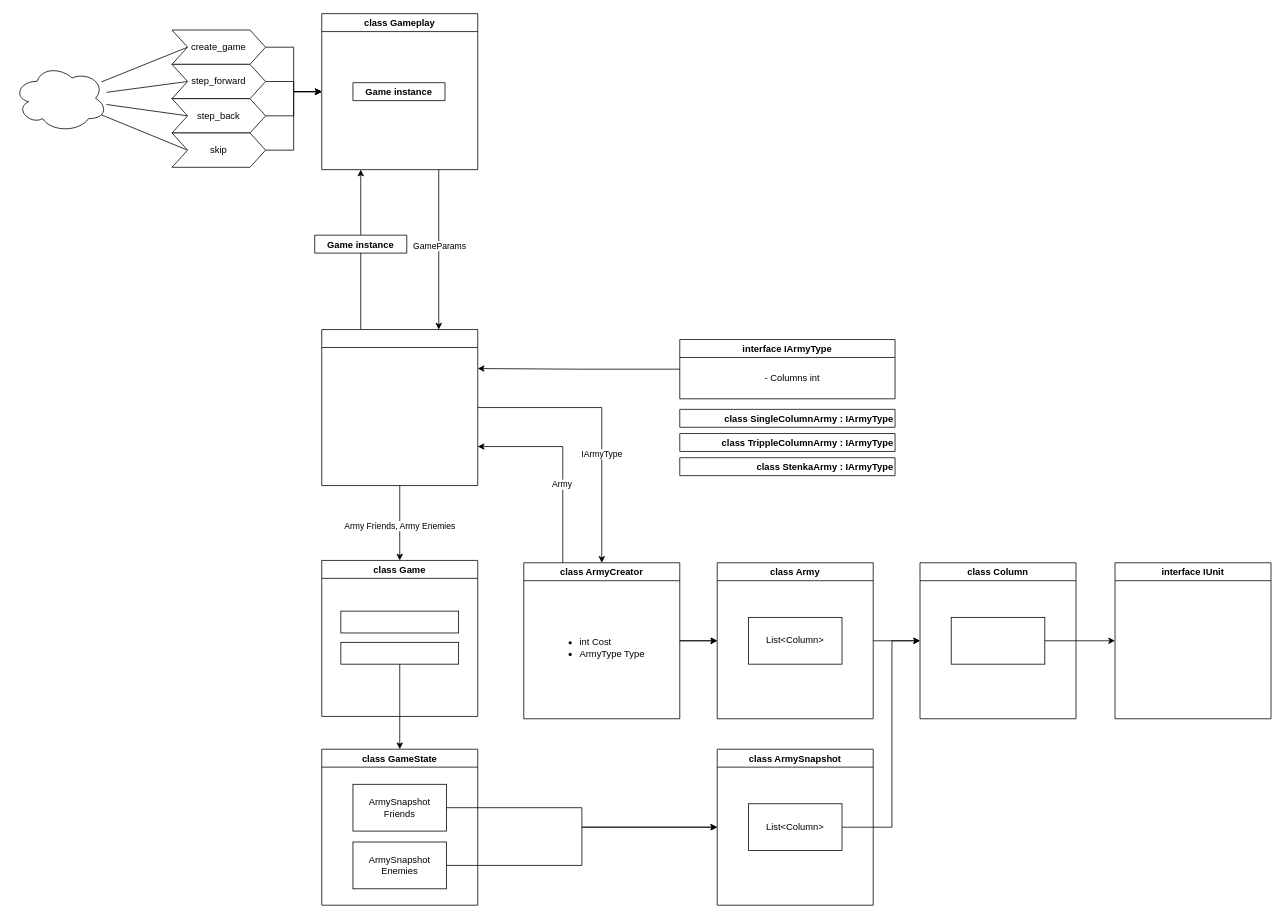
Some shapes in this 1285 by 919 pixel diagram are drawn without their labels. The centre of each missing label's shape, as x and y in pixels:
class GameCreator: the point at 399,407
CLI: the point at 60,98
List<GameState>: the point at 399,653
List<IUnit>: the point at 997,640
Name: the point at 399,621
